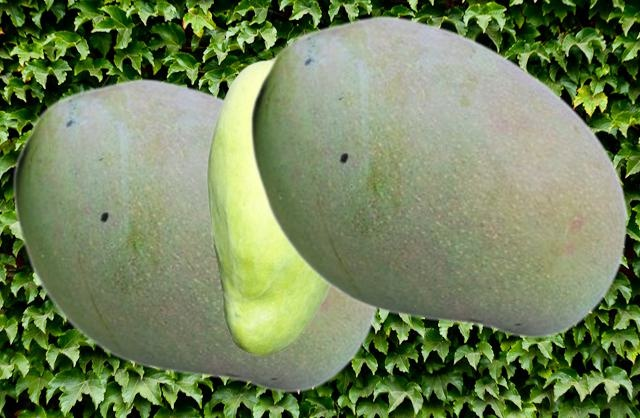green_mango: (249, 14, 627, 338), (12, 77, 379, 392), (206, 57, 331, 355)
